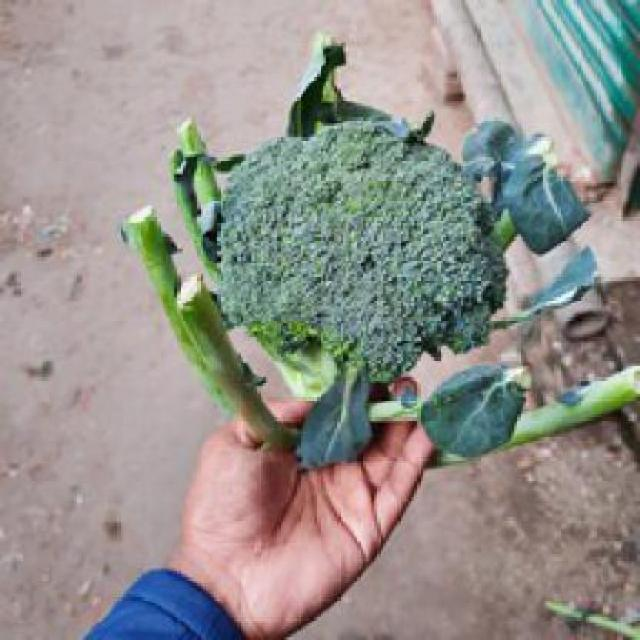broccoli: (208, 82, 552, 456)
